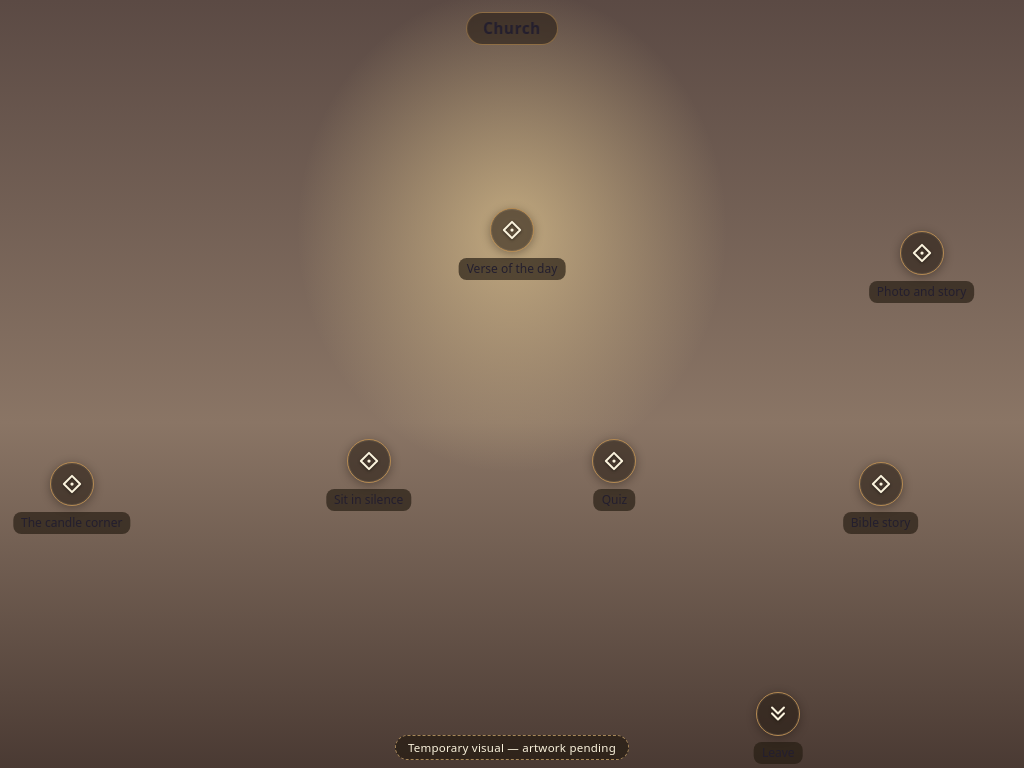
Scenario: Church interior › lights an unlit candle and puts a lit one out; the flame always matches the saved state
Click the button with test id "church-candle-corner" at (72, 484), box top-left (50, 462), bottom-right (94, 506)
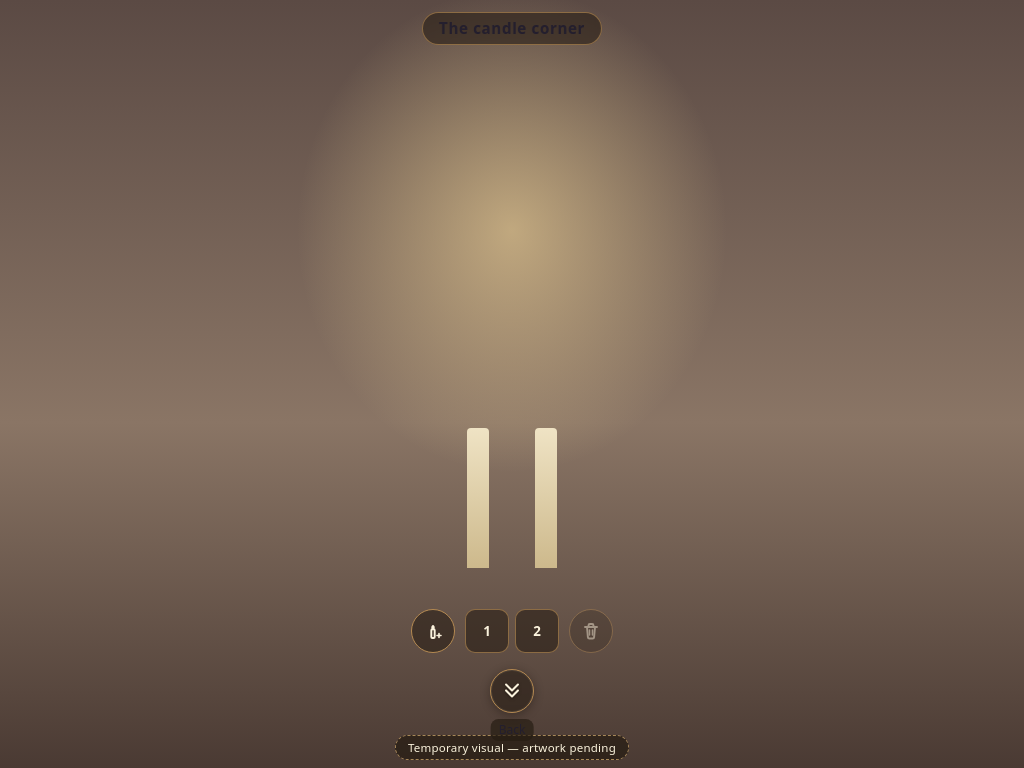
Click the button with test id "candle-candle_1" at (478, 498), box top-left (456, 428), bottom-right (500, 568)
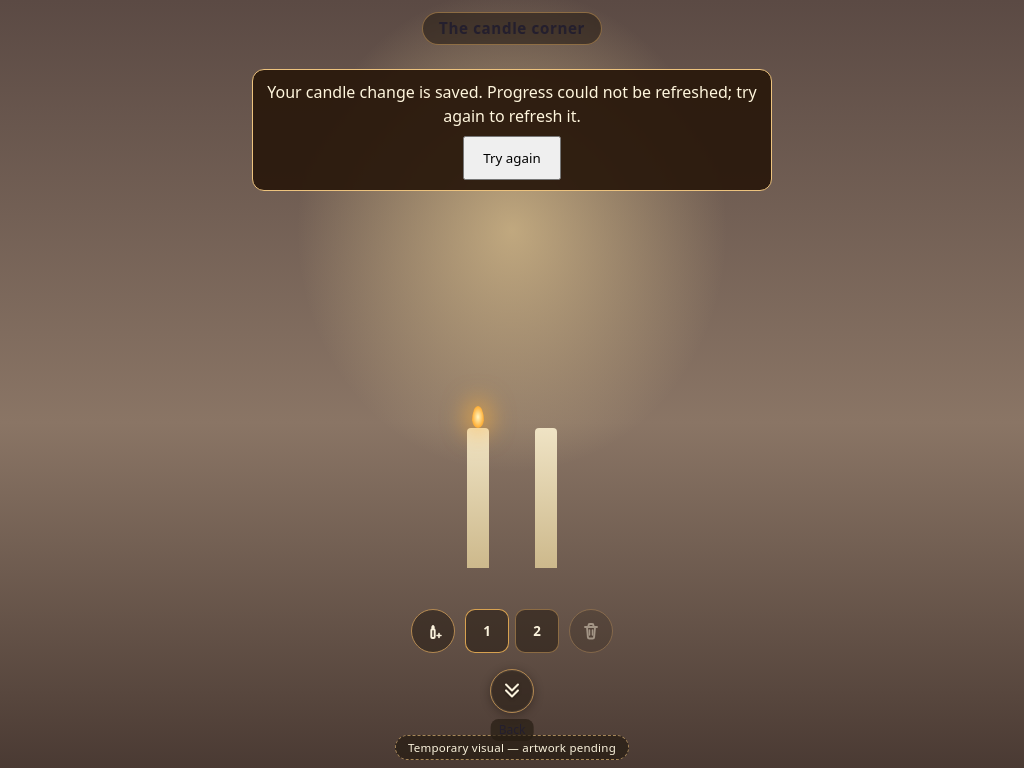
Expected: the button with test id "candle-candle_1" is pressed
Expected: the button with test id "candle-candle_1" has attribute data-lit="true"
Click the button with test id "candle-candle_1" at (478, 498), box top-left (456, 428), bottom-right (500, 568)
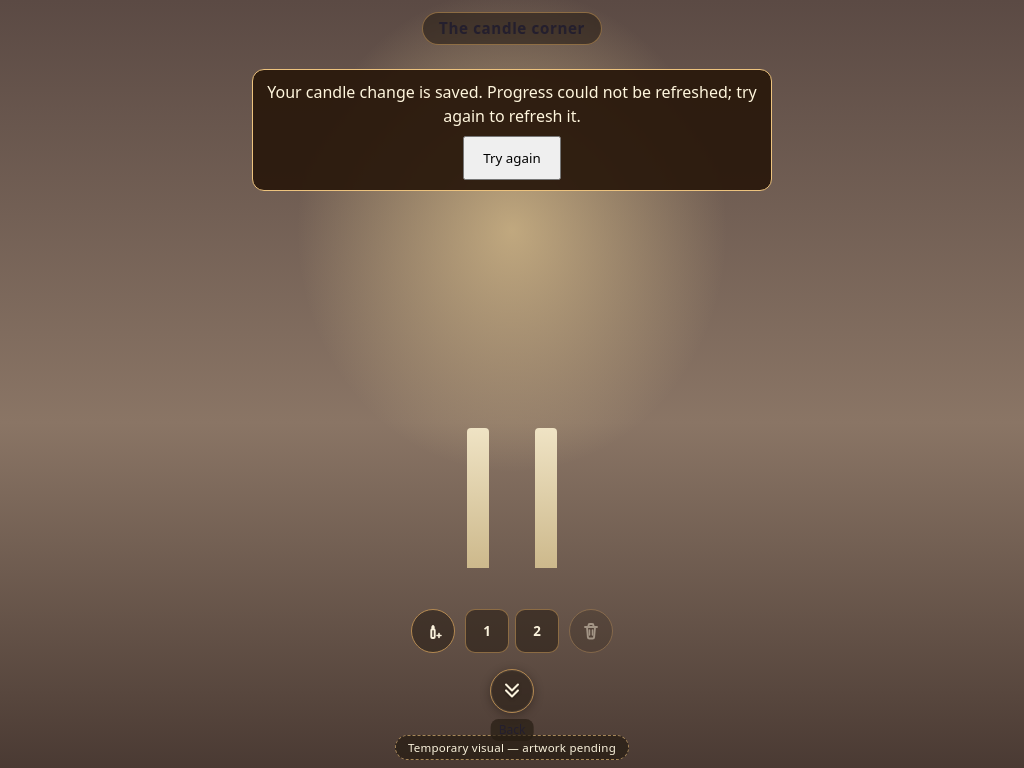
Expected: the button with test id "candle-candle_1" is not pressed, top-left (456, 428), bottom-right (500, 568)
Click the button with test id "church-candle-back" at (512, 691), box top-left (490, 669), bottom-right (534, 713)
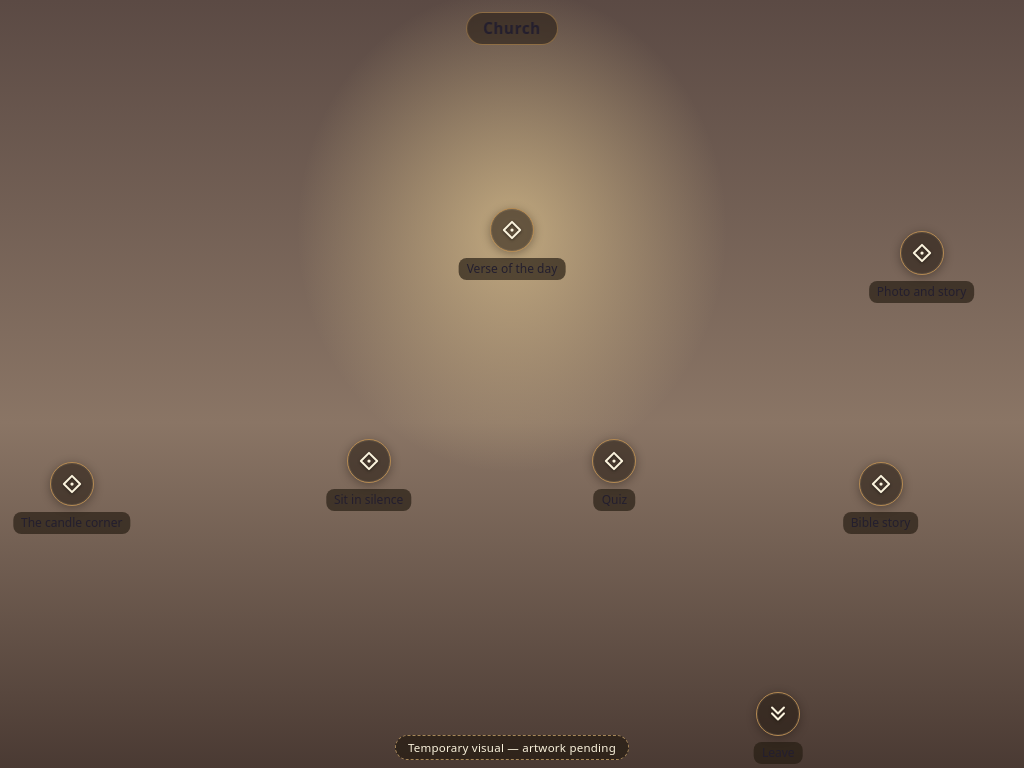
Expected: the element with test id "church-interior" is shown
